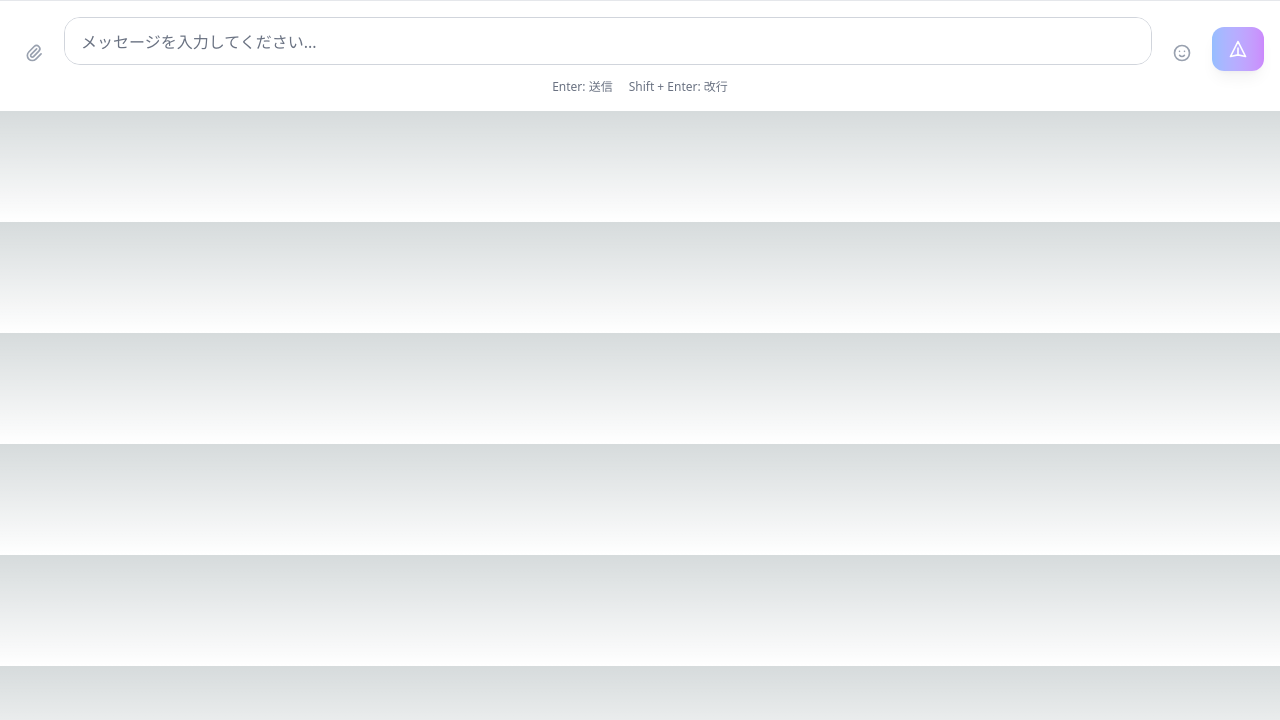
Test case: MessageInput › 文字数制限 › 文字数制限が適用される
Type "1234567890abcdef" into the text box with test id "message-input-field" at coordinates (608, 41), box [64,17,1152,65]
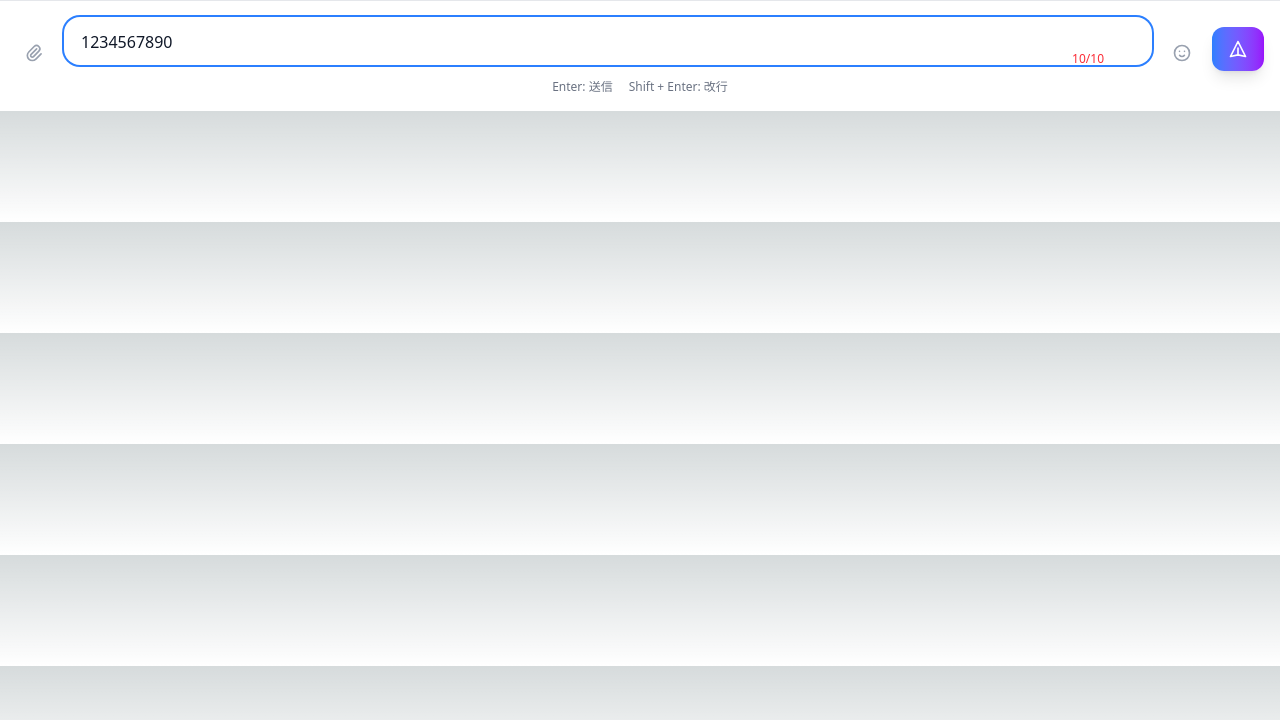
expect the text box with test id "message-input-field" holds "1234567890": met, box [64,17,1152,65]
